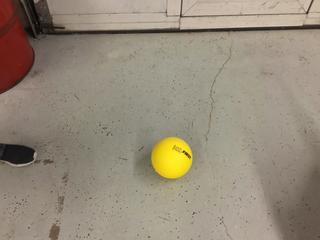power_cell: (150, 135, 195, 179)
